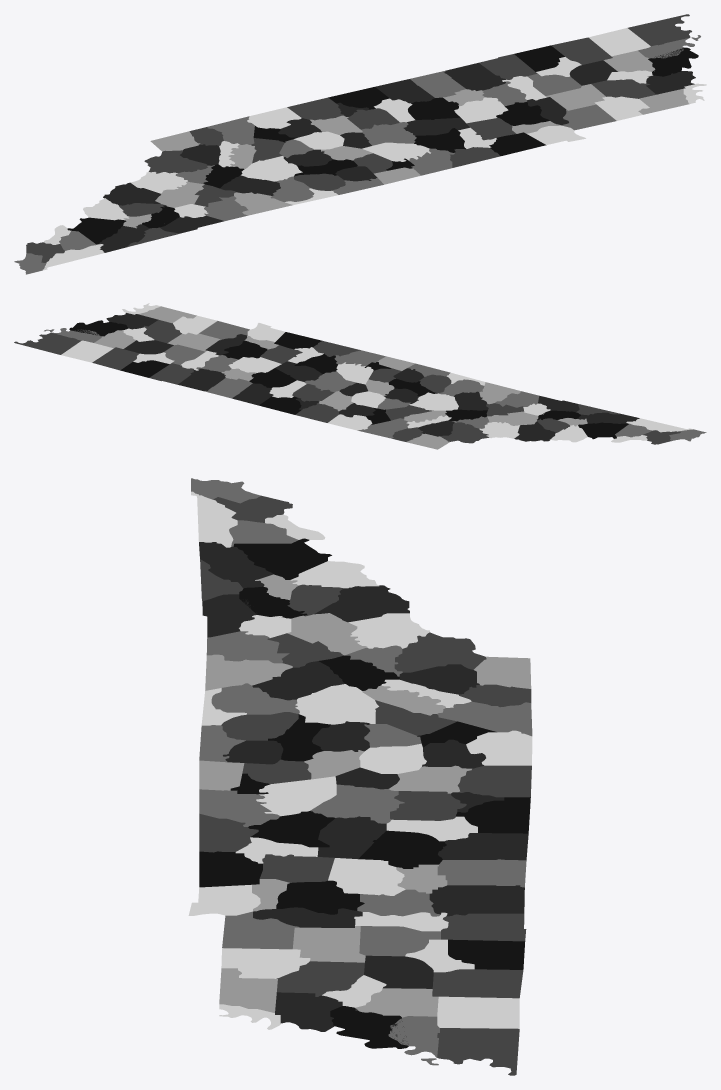
File: Tennessee_Counties_2D.fbx
3 renders of one model, top to bottom at view 1: azimuth 30°, elevation 25°; view 2: azimuth 150°, elevation 25°; view 3: azimuth 270°, elevation 25°, orthographic. The views are drawn at different scales.
Visible parts, largest first — view 1: TN_Shelby_County_2D, TN_Wayne_County_2D, TN_Fayette_County_2D, TN_Cumberland_County_2D, TN_Hardeman_County_2D, TN_Monroe_County_2D, TN_Hickman_County_2D, TN_Maury_County_2D, TN_Rutherford_County_2D, TN_Gibson_County_2D, TN_Carroll_County_2D, TN_Greene_County_2D (+69 smaller); view 2: TN_Shelby_County_2D, TN_Wayne_County_2D, TN_Fayette_County_2D, TN_Cumberland_County_2D, TN_Hardeman_County_2D, TN_Monroe_County_2D, TN_Maury_County_2D, TN_Hickman_County_2D, TN_Rutherford_County_2D, TN_Lauderdale_County_2D, TN_Carroll_County_2D, TN_Greene_County_2D (+71 smaller); view 3: TN_Shelby_County_2D, TN_Wayne_County_2D, TN_Fayette_County_2D, TN_Cumberland_County_2D, TN_Hardeman_County_2D, TN_Monroe_County_2D, TN_Hickman_County_2D, TN_Maury_County_2D, TN_Rutherford_County_2D, TN_Gibson_County_2D, TN_Carroll_County_2D, TN_Greene_County_2D (+75 smaller).
Boxes of the visible parts, x1,y1,x2,y2 form: TN_Shelby_County_2D: (628,14,691,46); TN_Wayne_County_2D: (444,63,505,90); TN_Fayette_County_2D: (588,28,650,56); TN_Cumberland_County_2D: (241,156,302,181); TN_Hardeman_County_2D: (551,37,612,64); TN_Monroe_County_2D: (144,150,207,173); TN_Hickman_County_2D: (454,97,508,123); TN_Maury_County_2D: (408,97,460,119); TN_Rutherford_County_2D: (361,122,416,145); TN_Gibson_County_2D: (591,79,655,98); TN_Carroll_County_2D: (545,84,605,110); TN_Greene_County_2D: (67,217,126,244); TN_Shelby_County_2D: (14,332,81,354); TN_Wayne_County_2D: (178,368,225,391); TN_Fayette_County_2D: (61,340,113,362); TN_Cumberland_County_2D: (409,392,458,410); TN_Hardeman_County_2D: (92,347,139,370); TN_Monroe_County_2D: (440,422,488,443); TN_Maury_County_2D: (249,368,296,388); TN_Hickman_County_2D: (228,357,281,372); TN_Rutherford_County_2D: (304,371,355,392); TN_Lauderdale_County_2D: (69,320,128,336); TN_Carroll_County_2D: (167,332,220,351); TN_Greene_County_2D: (578,422,628,439); TN_Shelby_County_2D: (437,1028,519,1075); TN_Wayne_County_2D: (429,885,524,916); TN_Fayette_County_2D: (437,996,519,1028); TN_Cumberland_County_2D: (295,684,378,724); TN_Hardeman_County_2D: (432,969,523,998); TN_Monroe_County_2D: (394,632,486,672); TN_Hickman_County_2D: (328,858,405,895); TN_Maury_County_2D: (358,830,446,868); TN_Rutherford_County_2D: (310,784,404,823); TN_Gibson_County_2D: (276,961,364,996); TN_Carroll_County_2D: (292,926,365,962); TN_Greene_County_2D: (233,538,331,579).
Size of the model in its own units: 834 by 0 by 203.
